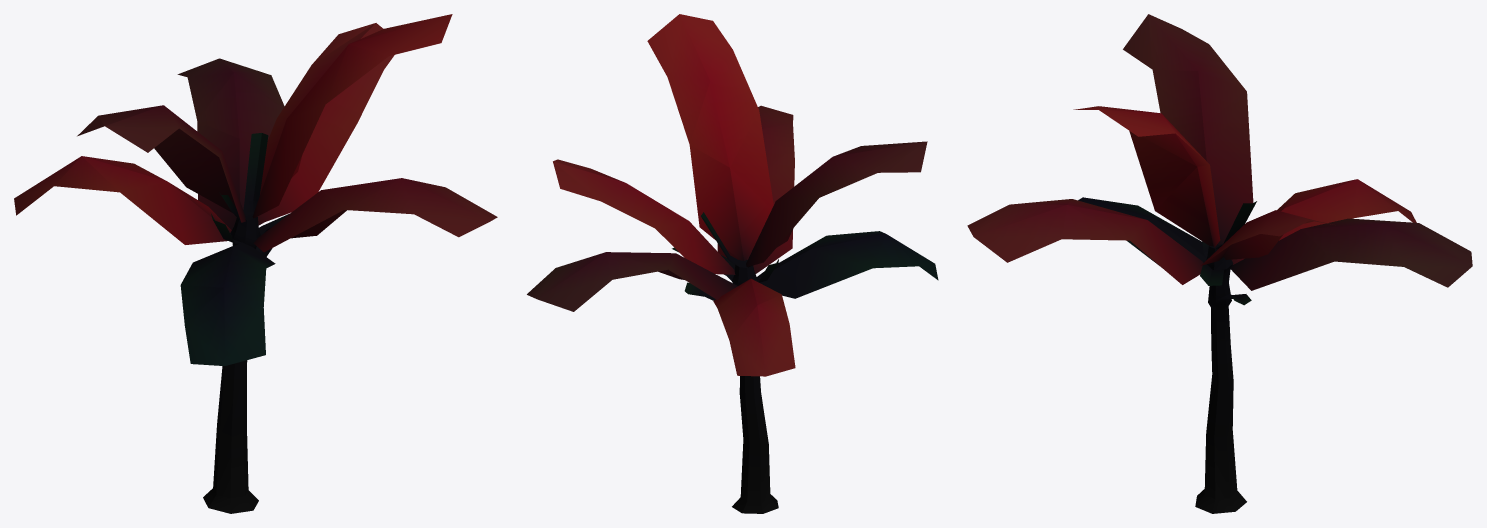
Rendered from banana_2013 atlas.fbx.
The picture shows the model from 3 angles, left to right: view 1: azimuth 30°, elevation 25°; view 2: azimuth 150°, elevation 25°; view 3: azimuth 270°, elevation 25°; orthographic projection. The views are drawn at different scales.
Visible parts, largest first — view 1: banana_2013 atlas; view 2: banana_2013 atlas; view 3: banana_2013 atlas.
Boxes of the visible parts, left/top/right/bottom form: banana_2013 atlas: left=14, top=14, right=497, bottom=513; banana_2013 atlas: left=527, top=14, right=938, bottom=513; banana_2013 atlas: left=967, top=14, right=1472, bottom=513.
Size of the model in its own units: 1.74 by 2.19 by 2.16.
